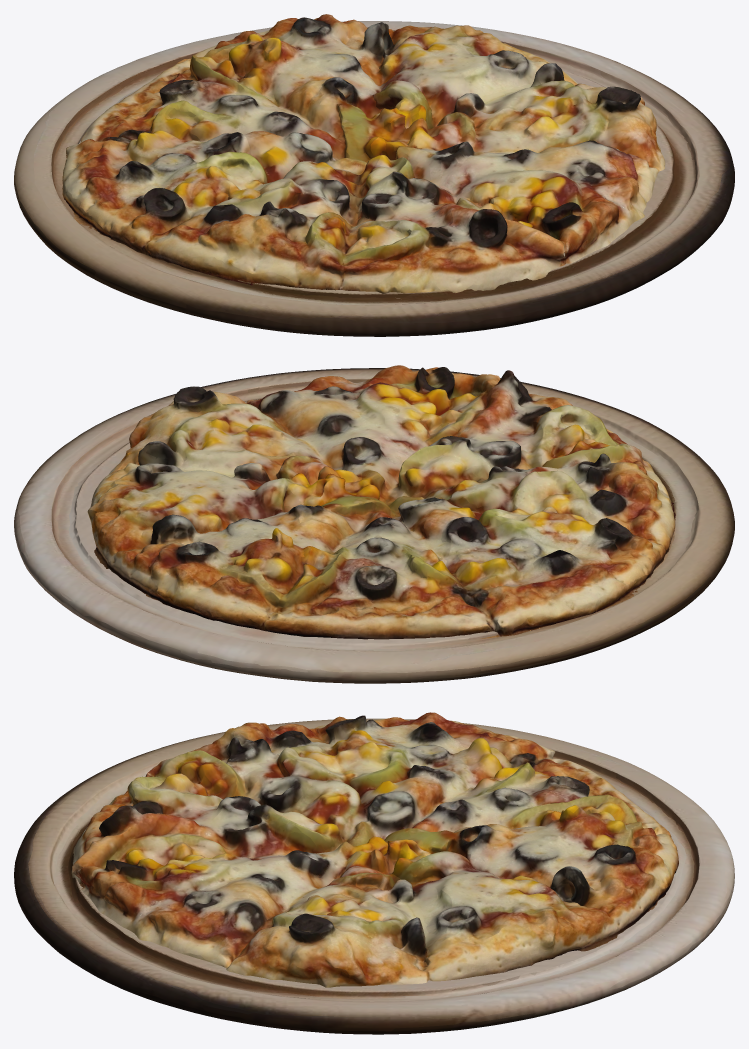
Rendered from pizza.alo.glb.
3 renders of one model, top to bottom at view 1: azimuth 30°, elevation 25°; view 2: azimuth 150°, elevation 25°; view 3: azimuth 270°, elevation 25°, orthographic.
Parts seen in each view (by area): view 1: /Root/Scenes/Scene/Object_37/Object_38/Submesh_0, /Root/Scenes/Scene/Object_37/Object_41/Object_42/Submesh_0; view 2: /Root/Scenes/Scene/Object_37/Object_38/Submesh_0, /Root/Scenes/Scene/Object_37/Object_41/Object_42/Submesh_0; view 3: /Root/Scenes/Scene/Object_37/Object_38/Submesh_0, /Root/Scenes/Scene/Object_37/Object_41/Object_42/Submesh_0.
Boxes of the visible parts, bbox=[...] form: /Root/Scenes/Scene/Object_37/Object_38/Submesh_0: bbox=[62, 14, 665, 293]; /Root/Scenes/Scene/Object_37/Object_41/Object_42/Submesh_0: bbox=[14, 21, 734, 336]; /Root/Scenes/Scene/Object_37/Object_38/Submesh_0: bbox=[87, 365, 675, 639]; /Root/Scenes/Scene/Object_37/Object_41/Object_42/Submesh_0: bbox=[14, 368, 734, 683]; /Root/Scenes/Scene/Object_37/Object_38/Submesh_0: bbox=[71, 712, 678, 987]; /Root/Scenes/Scene/Object_37/Object_41/Object_42/Submesh_0: bbox=[14, 718, 734, 1034].
Size of the model in its own units: 0.3754 by 0.0463 by 0.3753.
2 materials, 2 textured.
